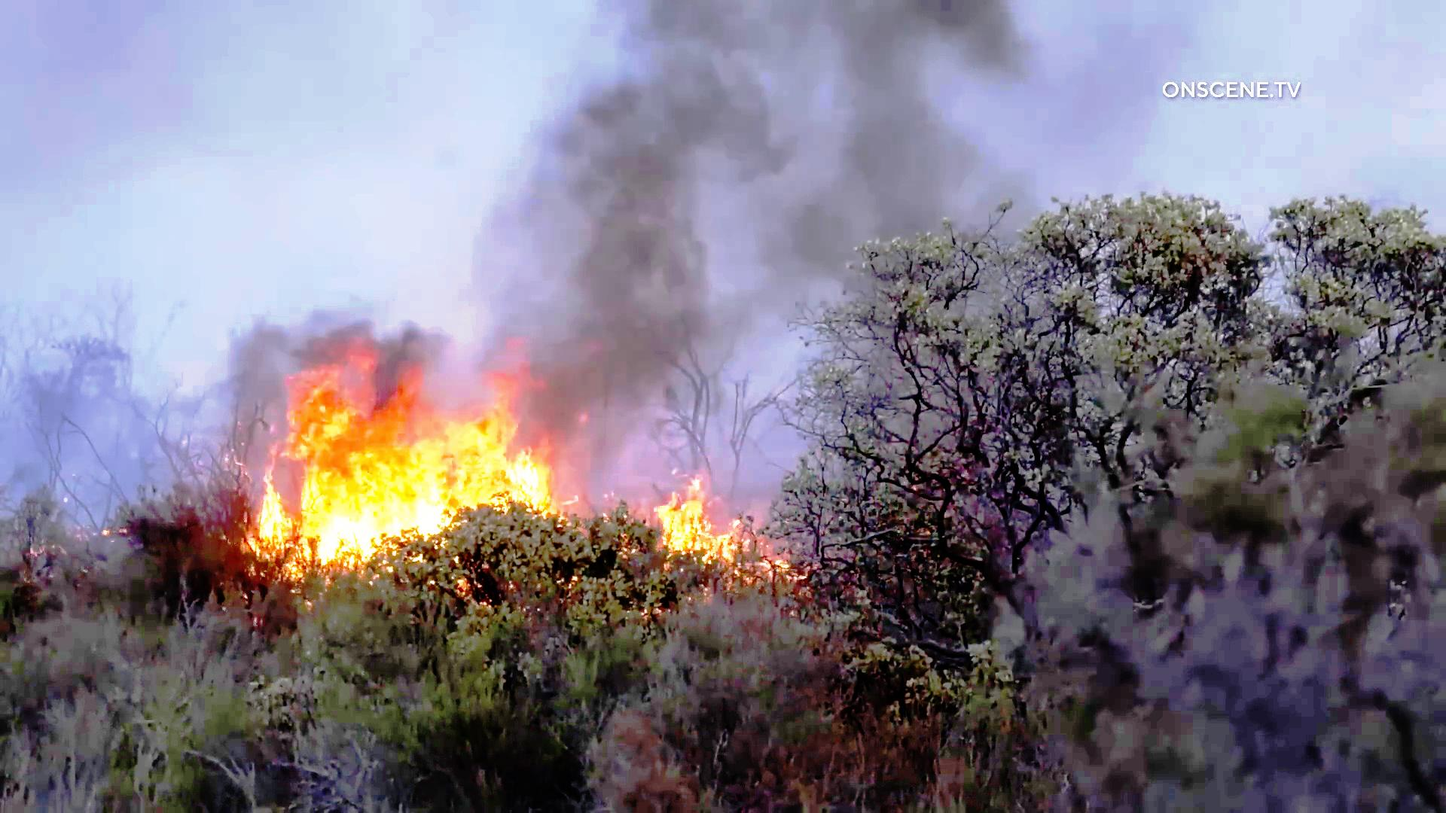fire: (219, 333, 545, 593)
smoke: (507, 0, 926, 332)
